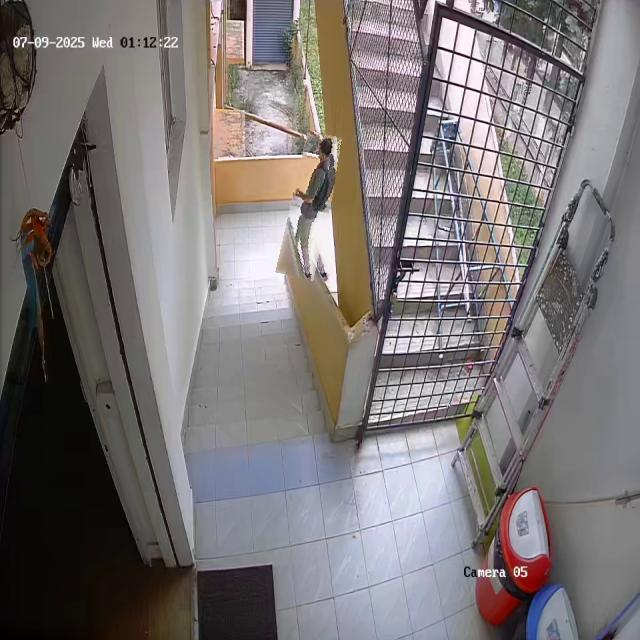person: (283, 132, 338, 280)
